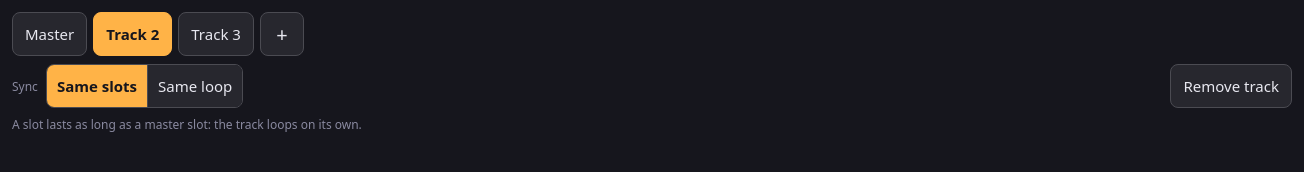
it: TrackTabs › removes the active track only on the second press
Click the button "Remove track". click: x=1231, y=86
box: [1170,64,1292,108]
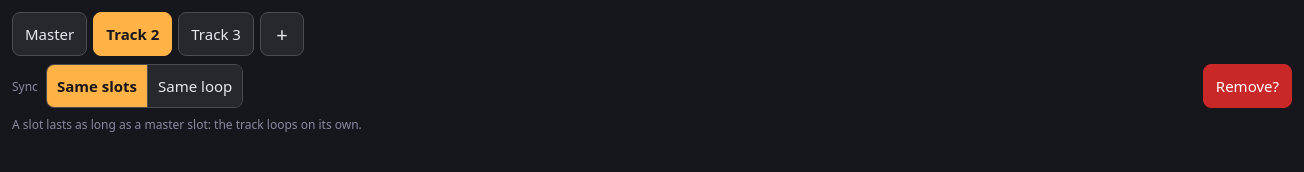
Click the button "Remove?". click: x=1247, y=86
box: [1203,64,1292,108]
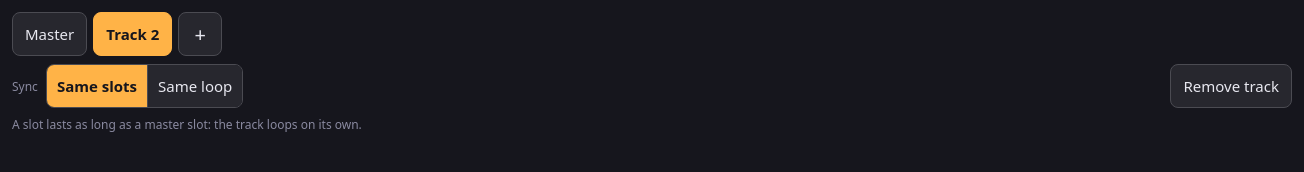
Check: the button "Remove track" is shown, box [1170,64,1292,108]
